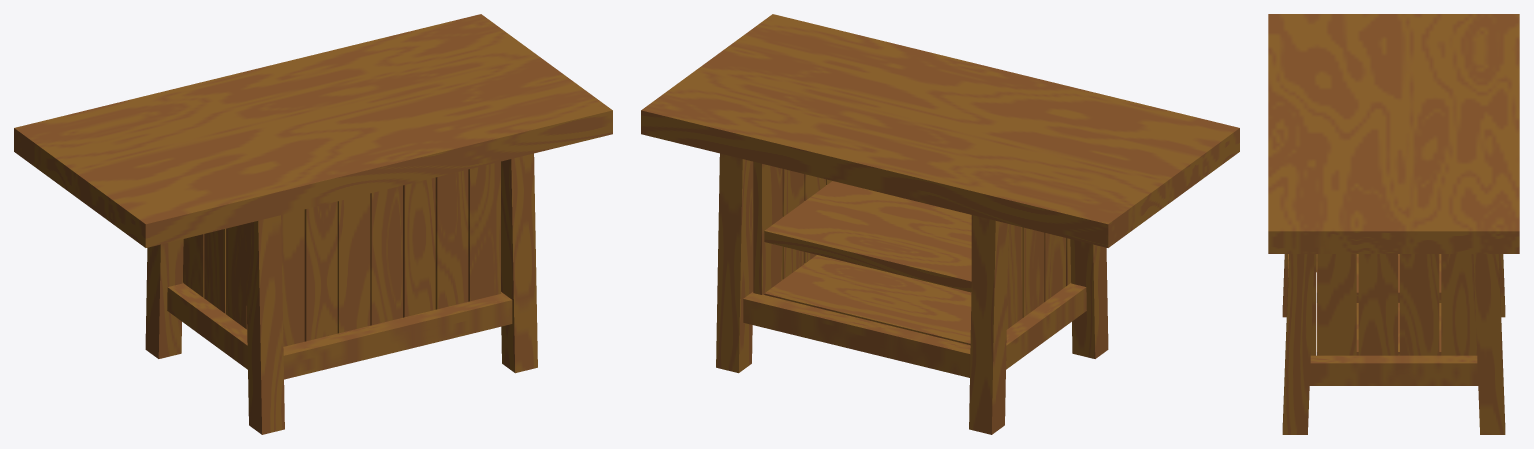
Rendered from SawBench.glb.
3 renders of one model, left to right at view 1: azimuth 30°, elevation 25°; view 2: azimuth 150°, elevation 25°; view 3: azimuth 270°, elevation 25°, orthographic. The views are drawn at different scales.
Visible parts, largest first — view 1: Workbench.Top, Workbench.Legs.Panel.001; view 2: Workbench.Top, Workbench.Legs.Panel.001; view 3: Workbench.Top, Workbench.Legs.Panel.001.
Part boxes in pixels (bbox=[...]): Workbench.Top: bbox=[14, 14, 612, 247]; Workbench.Legs.Panel.001: bbox=[145, 153, 537, 434]; Workbench.Top: bbox=[641, 14, 1239, 345]; Workbench.Legs.Panel.001: bbox=[716, 153, 1108, 434]; Workbench.Top: bbox=[1268, 14, 1519, 355]; Workbench.Legs.Panel.001: bbox=[1282, 254, 1505, 434].
Bounding box in the file's own units: 9.22 × 4.65 × 4.5.
Materials: 2 (2 with a texture image).
